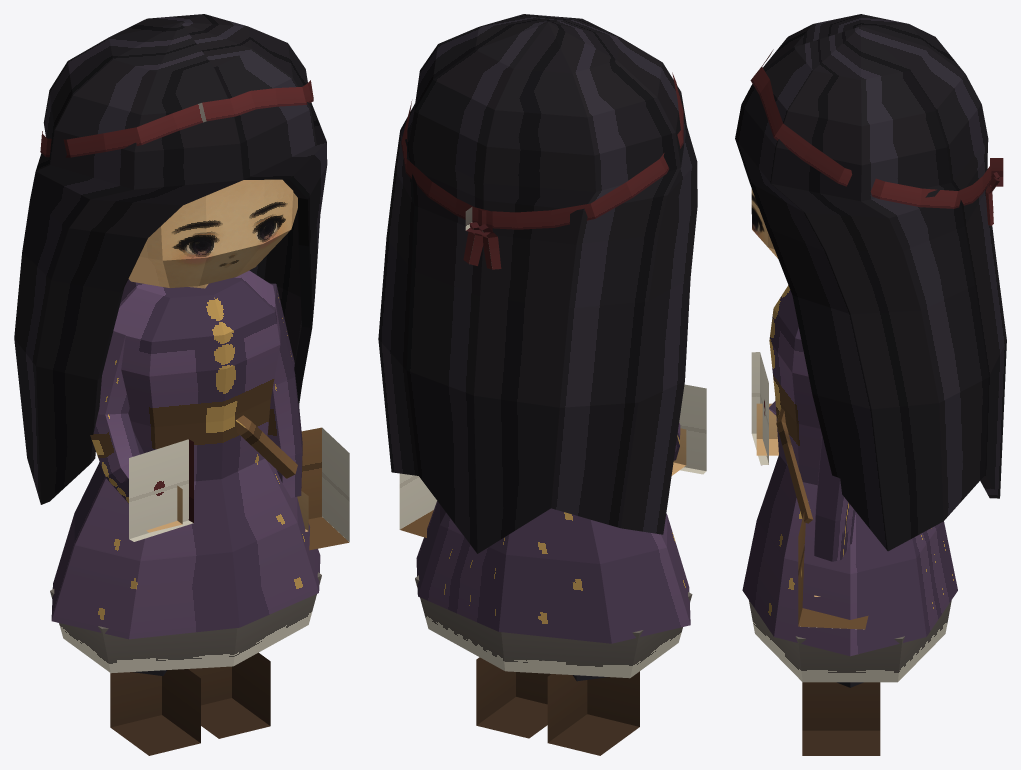
Rendered from postmaster-v05.glb.
3 views of the same model, side by side, from view 1: azimuth 30°, elevation 25°; view 2: azimuth 150°, elevation 25°; view 3: azimuth 270°, elevation 25° (orthographic).
Parts seen in each view (by area): view 1: postmaster; view 2: postmaster; view 3: postmaster.
Boxes of the visible parts, <box> form: postmaster: <box>14,14,349,755</box>; postmaster: <box>378,14,706,755</box>; postmaster: <box>735,14,1006,755</box>.
Bounding box in the file's own units: 1.09 × 2.58 × 0.9077.
2 materials, 2 textured.
